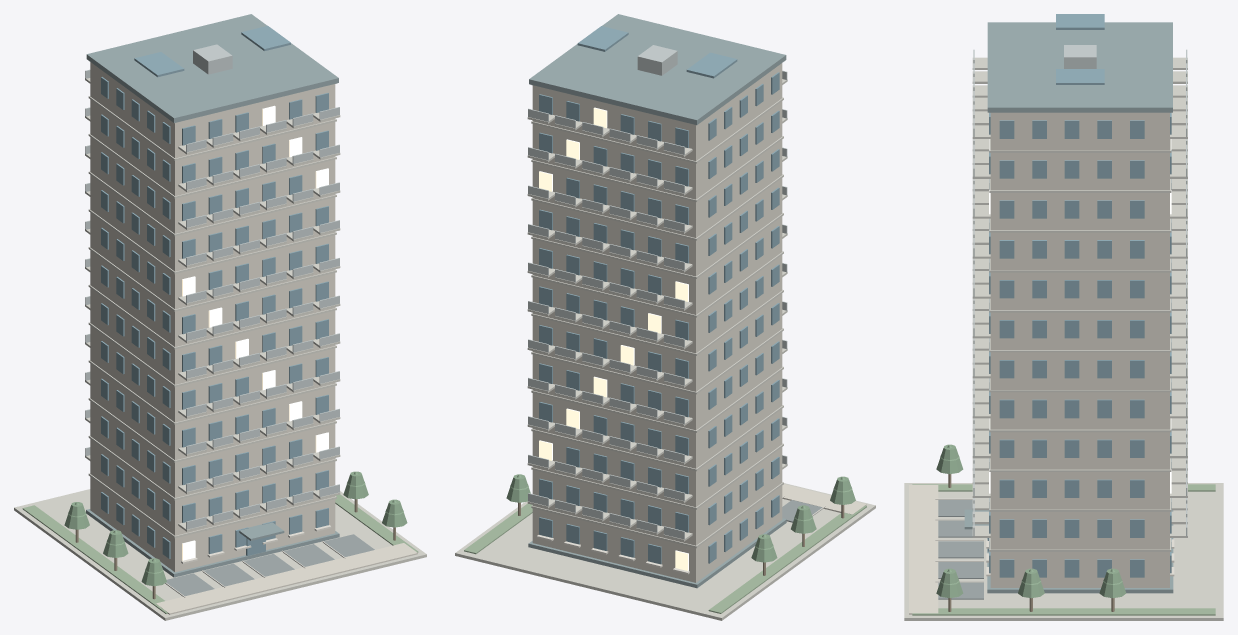
Rendered from remaster_apartment_0_high.glb.
3 renders of one model, left to right at view 1: azimuth 30°, elevation 25°; view 2: azimuth 150°, elevation 25°; view 3: azimuth 270°, elevation 25°, orthographic. The views are drawn at different scales.
Parts seen in each view (by area): view 1: remaster_apartment_0_high cream, remaster_apartment_0_high glass, remaster_apartment_0_high stone, remaster_apartment_0_high roof, remaster_apartment_0_high metal, remaster_apartment_0_high asphalt, remaster_apartment_0_high green, remaster_apartment_0_high leaf, remaster_apartment_0_high warm, remaster_apartment_0_high white; view 2: remaster_apartment_0_high cream, remaster_apartment_0_high stone, remaster_apartment_0_high glass, remaster_apartment_0_high roof, remaster_apartment_0_high metal, remaster_apartment_0_high green, remaster_apartment_0_high warm, remaster_apartment_0_high leaf; view 3: remaster_apartment_0_high cream, remaster_apartment_0_high stone, remaster_apartment_0_high glass, remaster_apartment_0_high roof, remaster_apartment_0_high asphalt, remaster_apartment_0_high green, remaster_apartment_0_high metal, remaster_apartment_0_high leaf, remaster_apartment_0_high white.
Part boxes in pixels (<box>): remaster_apartment_0_high cream: <box>90,62,417,614</box>; remaster_apartment_0_high glass: <box>101,26,328,558</box>; remaster_apartment_0_high stone: <box>14,78,426,620</box>; remaster_apartment_0_high roof: <box>86,14,339,577</box>; remaster_apartment_0_high metal: <box>85,44,339,530</box>; remaster_apartment_0_high asphalt: <box>165,534,374,596</box>; remaster_apartment_0_high green: <box>22,494,418,613</box>; remaster_apartment_0_high leaf: <box>64,471,407,586</box>; remaster_apartment_0_high warm: <box>182,105,328,560</box>; remaster_apartment_0_high white: <box>165,525,345,597</box>; remaster_apartment_0_high cream: <box>532,63,866,582</box>; remaster_apartment_0_high stone: <box>455,79,875,620</box>; remaster_apartment_0_high glass: <box>539,26,779,564</box>; remaster_apartment_0_high roof: <box>528,14,786,588</box>; remaster_apartment_0_high metal: <box>528,45,787,539</box>; remaster_apartment_0_high green: <box>464,503,866,613</box>; remaster_apartment_0_high warm: <box>539,107,688,570</box>; remaster_apartment_0_high leaf: <box>506,474,855,562</box>; remaster_apartment_0_high cream: <box>909,113,1169,614</box>; remaster_apartment_0_high stone: <box>904,57,1223,620</box>; remaster_apartment_0_high glass: <box>987,14,1171,577</box>; remaster_apartment_0_high roof: <box>964,22,1173,593</box>; remaster_apartment_0_high asphalt: <box>938,500,983,599</box>; remaster_apartment_0_high green: <box>912,484,1215,615</box>; remaster_apartment_0_high metal: <box>973,45,1187,536</box>; remaster_apartment_0_high leaf: <box>936,444,1126,598</box>; remaster_apartment_0_high white: <box>935,498,1174,582</box>.
Size of the model in its own units: 19.65 by 34.17 by 19.6.
